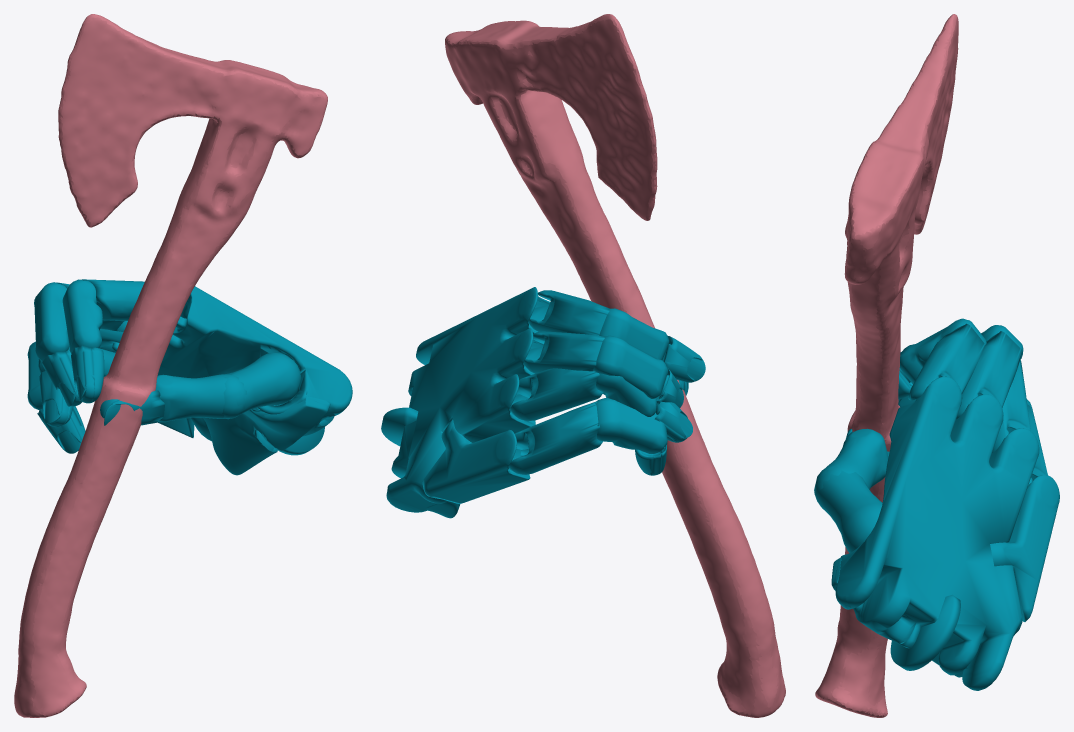
3 renders of one model, left to right at view 1: azimuth 30°, elevation 25°; view 2: azimuth 150°, elevation 25°; view 3: azimuth 270°, elevation 25°, orthographic. The views are drawn at different scales.
Visible parts, largest first — view 1: world; view 2: world; view 3: world.
Boxes of the visible parts, x1,y1,x2,y2 form: world: (14, 14, 352, 717); world: (381, 14, 785, 717); world: (814, 14, 1059, 717).
Bounding box in the file's own units: 0.1884 × 0.35 × 0.1037.
